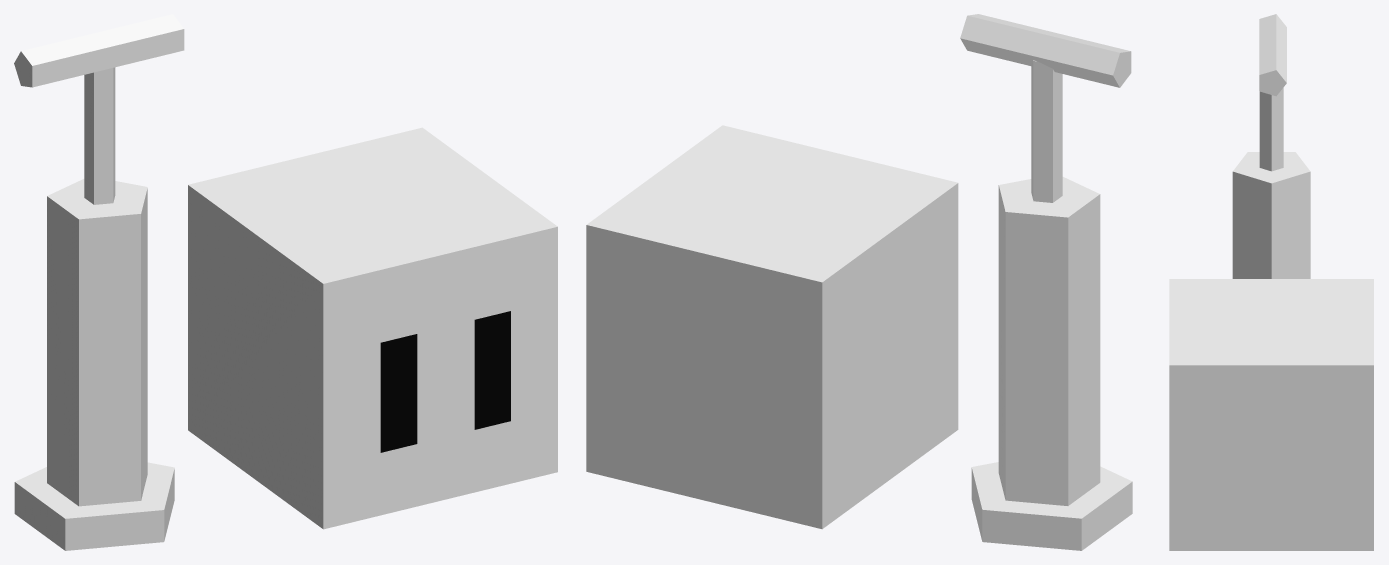
Rendered from kuukiire.obj.
The picture shows the model from 3 angles, left to right: view 1: azimuth 30°, elevation 25°; view 2: azimuth 150°, elevation 25°; view 3: azimuth 270°, elevation 25°; orthographic projection. The views are drawn at different scales.
Visible parts, largest first — view 1: pCube1, pCylinder6, pCylinder5, pPlane1, pPlane2; view 2: pCube1, pCylinder6, pCylinder5, pPlane3; view 3: pCube1, pCylinder6, pCylinder5.
Part boxes in pixels (x1,y1,x2,y2): pCube1: (188, 127, 557, 529); pCylinder6: (14, 179, 174, 550); pCylinder5: (14, 14, 184, 204); pPlane1: (380, 334, 417, 452); pPlane2: (474, 311, 510, 429); pCube1: (586, 125, 958, 529); pCylinder6: (971, 177, 1132, 550); pCylinder5: (960, 14, 1131, 202); pPlane3: (619, 332, 666, 392); pCube1: (1169, 279, 1373, 550); pCylinder6: (1232, 152, 1310, 278); pCylinder5: (1259, 14, 1286, 171).
Size of the model in its own units: 9.93 by 9.84 by 5.21.
2 materials, 1 textured.
